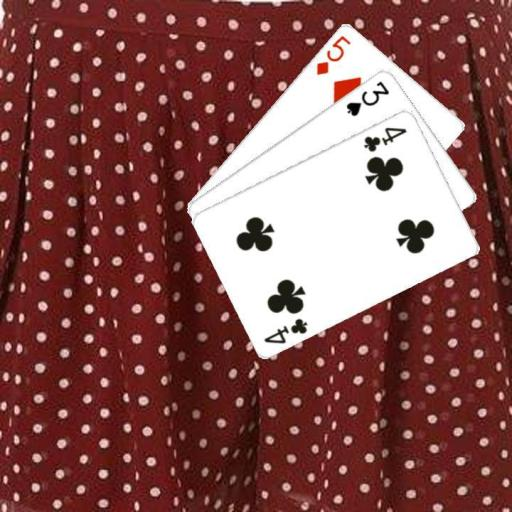3S: (343, 78, 391, 118)
4C: (261, 314, 310, 345), (360, 123, 409, 153)
5D: (313, 31, 353, 76)
